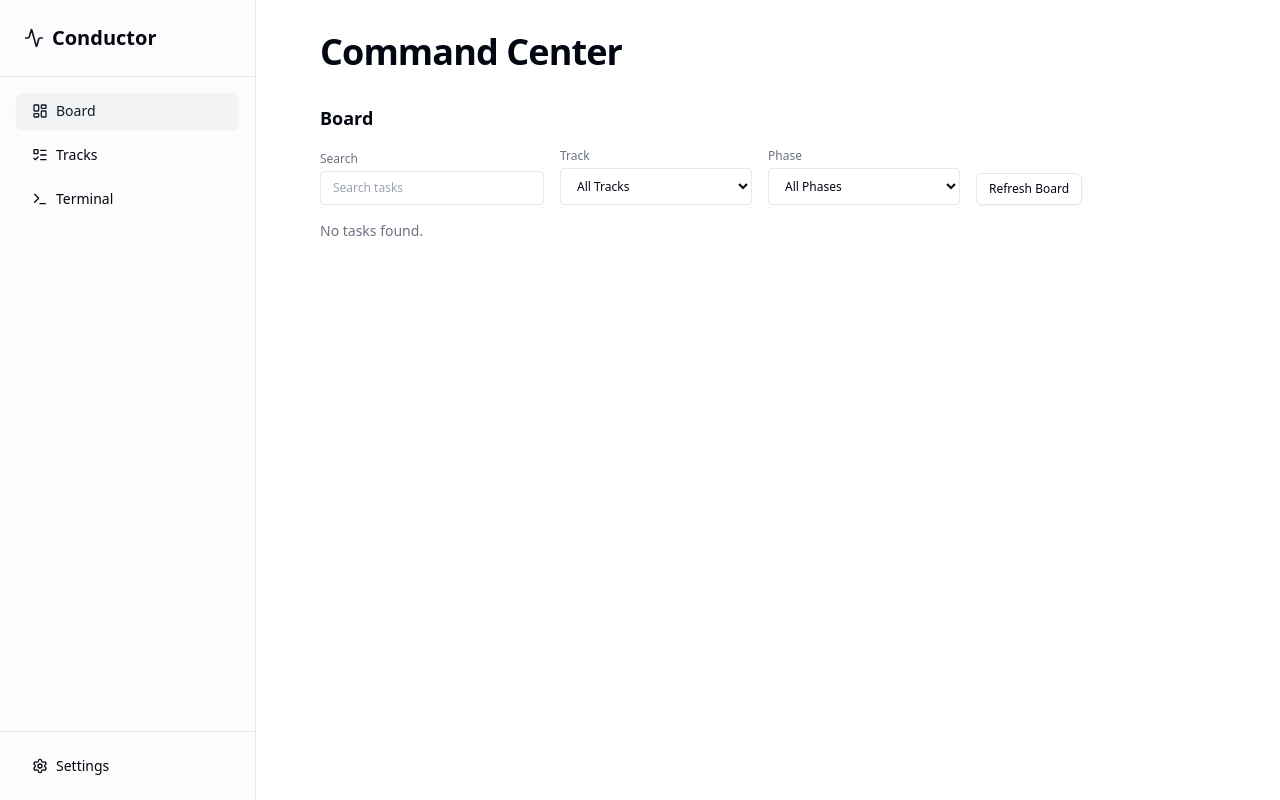
Test: App Component › renders terminal session tabs and session list
This screenshot has width=1280, height=800.
Click the button "Terminal" at [128, 199], box [16, 181, 239, 217]
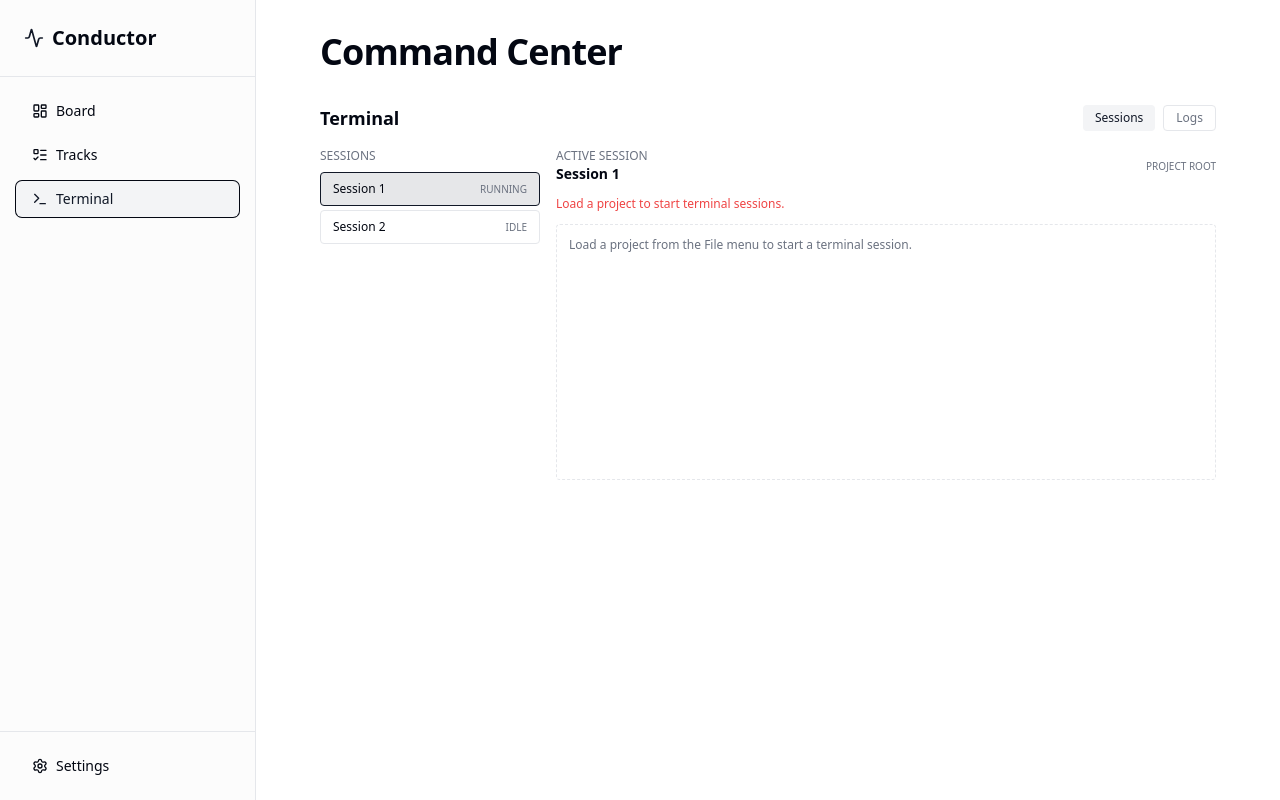
Expected: the element with test id "terminal-tab" is shown, [320, 104, 1216, 480]
Expected: the heading "Terminal" is shown, [320, 104, 399, 132]
Expected: the tab "Session 1 running" is shown, [320, 172, 540, 206]
